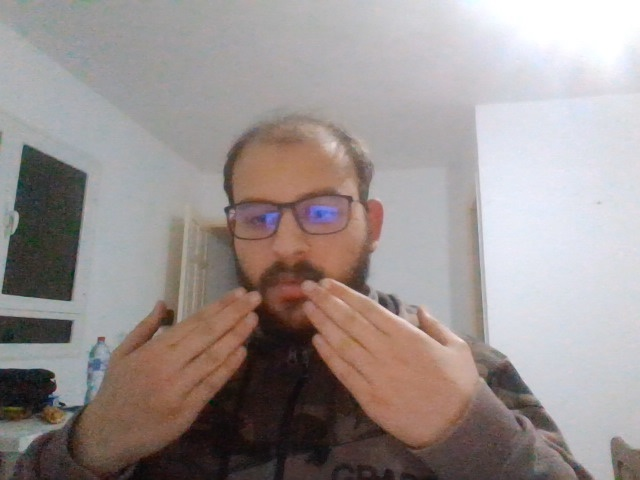Thank You: (103, 281, 475, 447)
